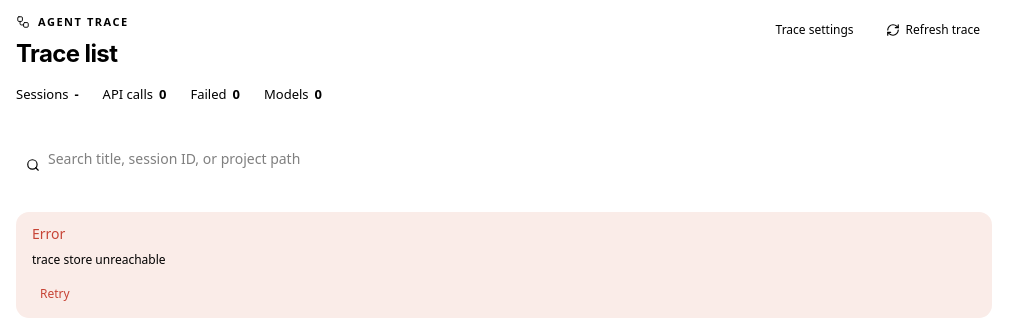
TraceList › announces a failed load and retries from inside the error
Check: the message shows "trace store unreachable", box [32,251,166,268]
Click the button "Retry".
click(55, 294)  # box [32,282,78,306]
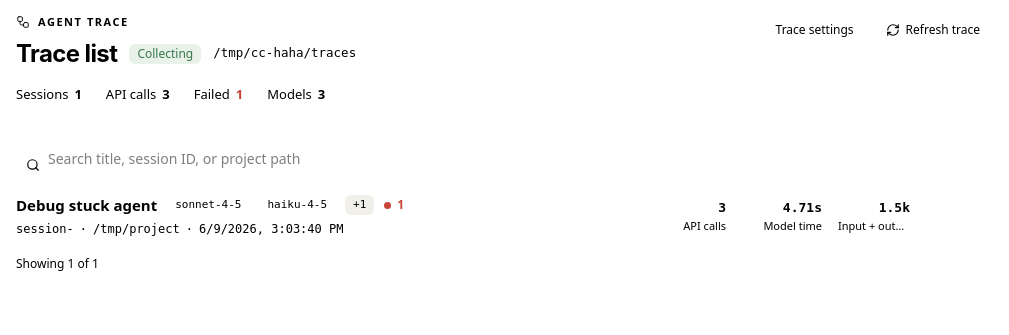
Check: the text "/tmp/cc-haha/traces" is shown, box [213,44,356,63]
Check: the message "Error trace store unreachable Retry" is gone
